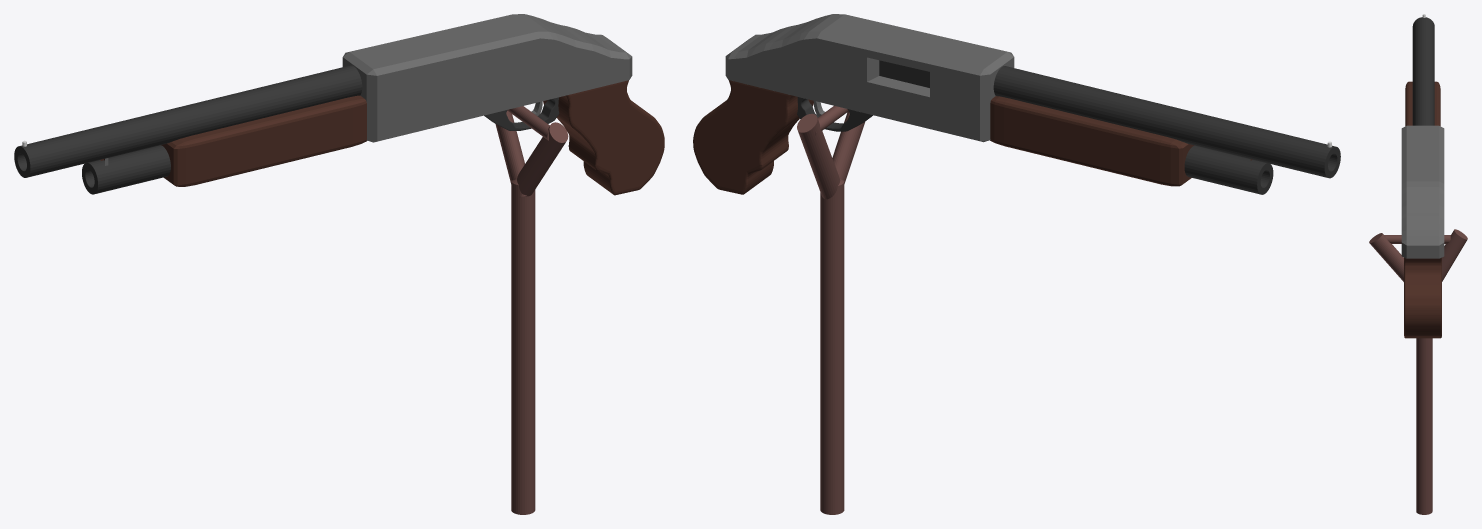
The model's file is Shotgun.fbx.
The picture shows the model from 3 angles, left to right: view 1: azimuth 30°, elevation 25°; view 2: azimuth 150°, elevation 25°; view 3: azimuth 270°, elevation 25°; orthographic projection. The views are drawn at different scales.
Visible parts, largest first — view 1: Cylinder.001; view 2: Cylinder.001; view 3: Cylinder.001.
Boxes of the visible parts, bbox=[...] form: Cylinder.001: bbox=[14, 14, 664, 514]; Cylinder.001: bbox=[693, 14, 1340, 514]; Cylinder.001: bbox=[1369, 14, 1467, 514].
Size of the model in its own units: 973 by 725 by 195.
